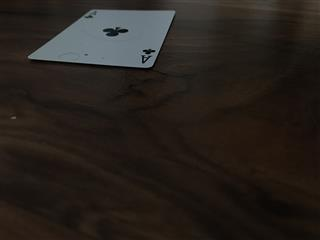AceOfClubs: (27, 8, 175, 67)
